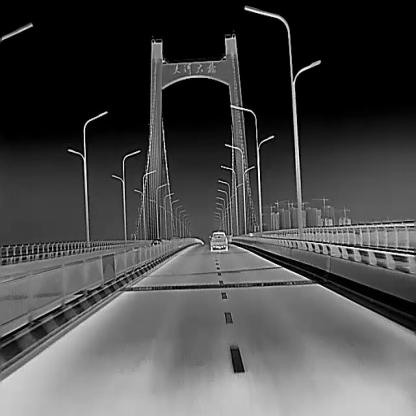car: (209, 231, 227, 250), (151, 238, 161, 245)
